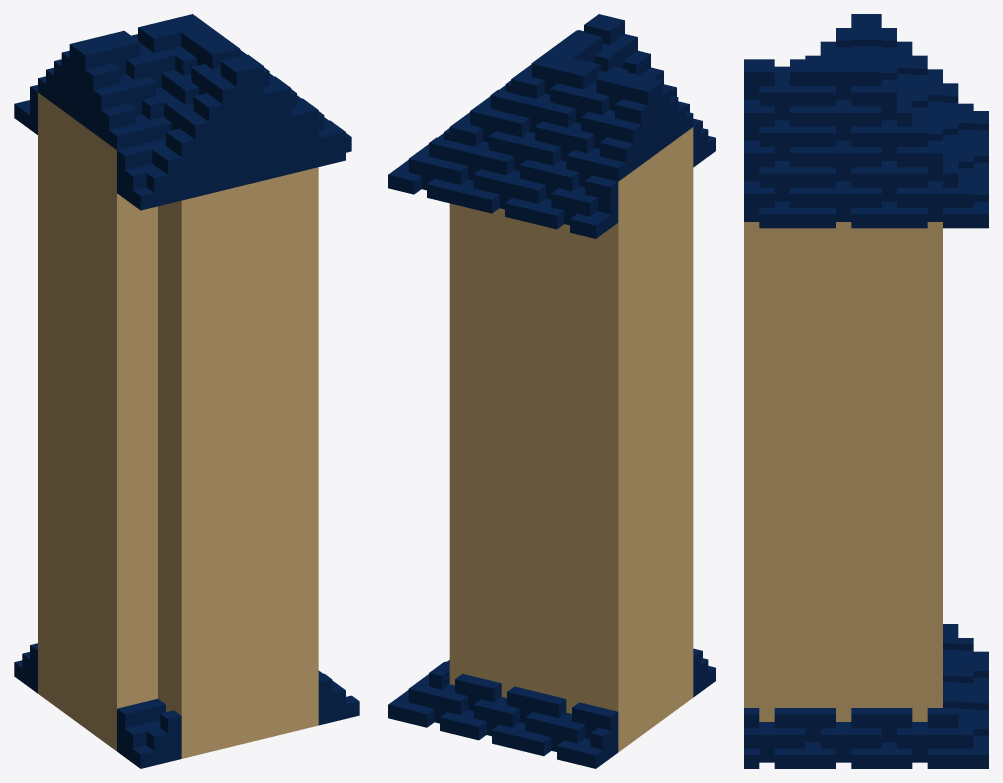
Rendered from OutsideWalls_TiledCorner.obj.
3 views of the same model, side by side, from view 1: azimuth 30°, elevation 25°; view 2: azimuth 150°, elevation 25°; view 3: azimuth 270°, elevation 25° (orthographic). The views are drawn at different scales.
Visible parts, largest first — view 1: OutsideWalls_TiledCorner; view 2: OutsideWalls_TiledCorner; view 3: OutsideWalls_TiledCorner.
Boxes of the visible parts, bbox=[...] form: OutsideWalls_TiledCorner: bbox=[14, 14, 359, 768]; OutsideWalls_TiledCorner: bbox=[388, 14, 715, 768]; OutsideWalls_TiledCorner: bbox=[744, 14, 988, 768].
Size of the model in its own units: 16 by 47 by 16.
1 material, 1 textured.
